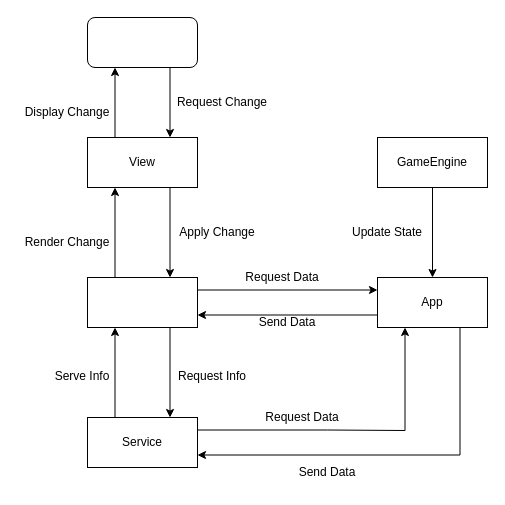
Image size: 505x505. Some labels were removed from this diagram. The shapes that lost their labels are listed below. From the top down, each one's centre as x and y in pixels, then its label:
At (x=142, y=42): "User".
At (x=142, y=302): "Controller".
